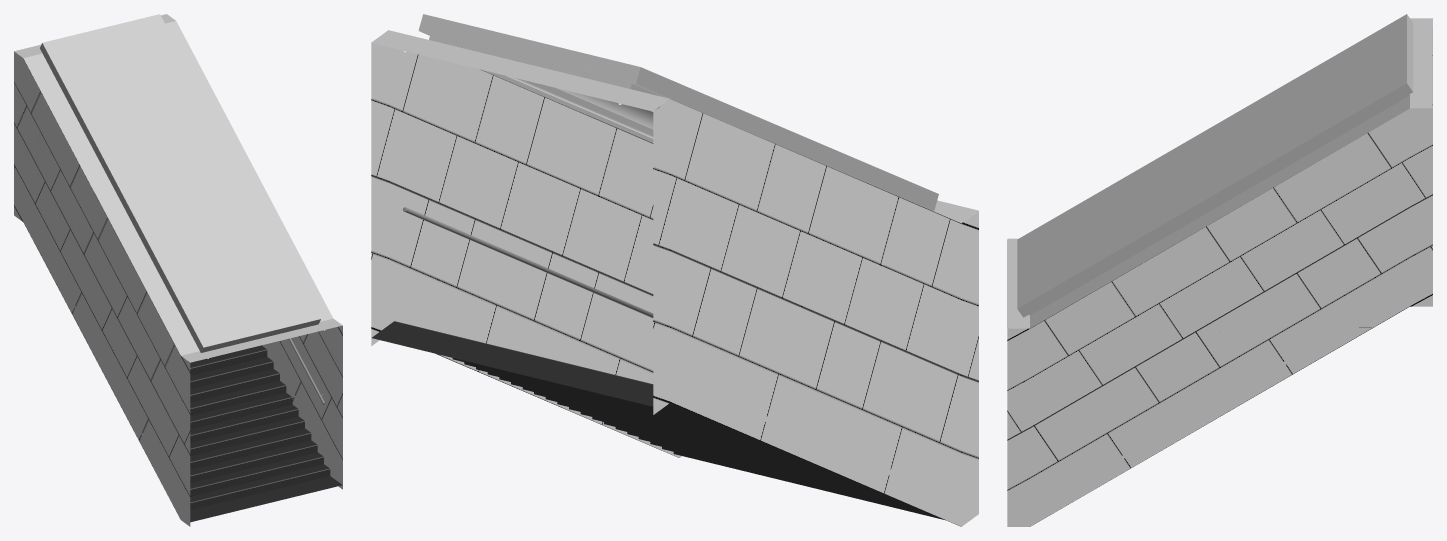
File: Stairs01_350x700cm.FBX
The picture shows the model from 3 angles, left to right: view 1: azimuth 30°, elevation 25°; view 2: azimuth 150°, elevation 25°; view 3: azimuth 270°, elevation 25°; orthographic projection. The views are drawn at different scales.
Parts seen in each view (by area): view 1: Ceiling, Walls, Stairs; view 2: Walls, Ceiling, Stairs, Backlight; view 3: Walls, Ceiling.
Boxes of the visible parts, bbox=[...] form: Ceiling: bbox=[14, 14, 342, 362]; Walls: bbox=[14, 51, 342, 526]; Stairs: bbox=[96, 196, 342, 522]; Walls: bbox=[371, 43, 978, 526]; Ceiling: bbox=[371, 14, 978, 223]; Stairs: bbox=[372, 321, 945, 520]; Backlight: bbox=[419, 31, 931, 210]; Walls: bbox=[1007, 29, 1432, 526]; Ceiling: bbox=[1007, 14, 1432, 328].
Bounding box in the file's own units: 3507 × 7864 × 7002.
